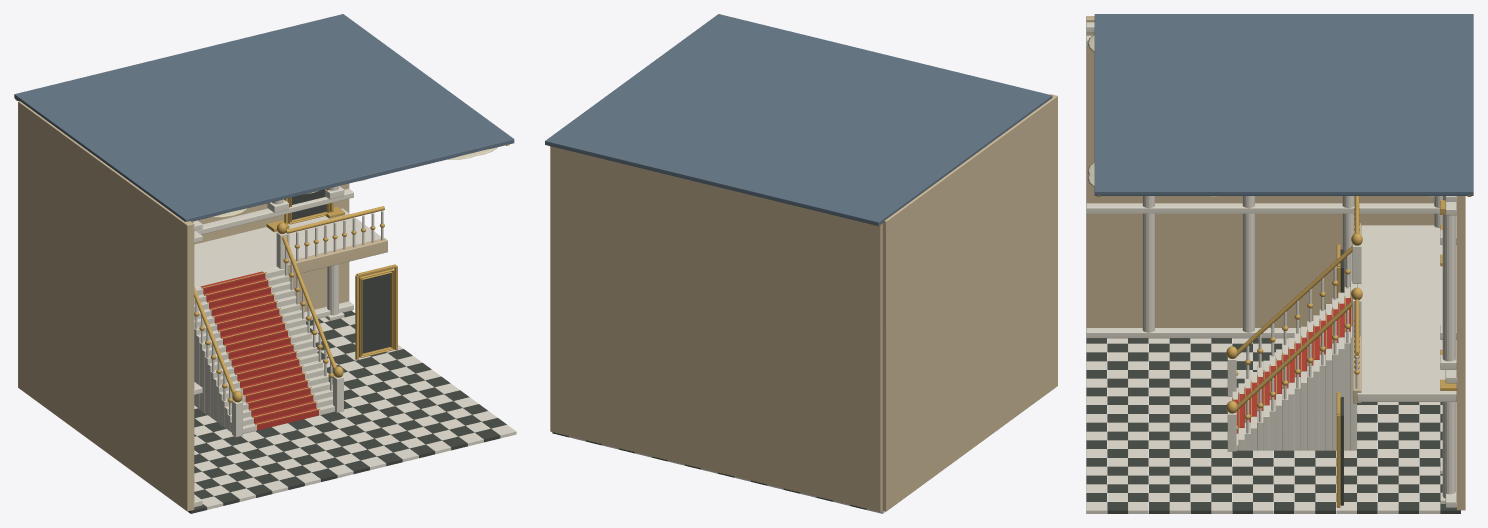
Rendered from hall.glb.
3 renders of one model, left to right at view 1: azimuth 30°, elevation 25°; view 2: azimuth 150°, elevation 25°; view 3: azimuth 270°, elevation 25°, orthographic. The views are drawn at different scales.
Visible parts, largest first — view 1: Ceiling fresco field, Hall left wall, Upper landing, Hall rear wall, Ground door backdrop.001, Landing front fascia.001, Hall cornice.001, Rising gilt handrail.001, Double height pilaster.006; view 2: Hall rear wall, Ceiling fresco field, Hall left wall; view 3: Ceiling fresco field, Hall left wall, Upper landing, Hall cornice left.001, Hall rear wall, Hall cornice left, Double height pilaster.007, Side monumental column.001, Side monumental column, Double height pilaster.006, Grand stair tread.018, Grand stair tread.015 (+14 smaller).
Part boxes in pixels (left/top/right/bottom): Ceiling fresco field: left=14, top=14, right=514, bottom=221; Hall left wall: left=18, top=101, right=194, bottom=511; Upper landing: left=194, top=208, right=380, bottom=288; Hall rear wall: left=194, top=183, right=349, bottom=311; Ground door backdrop.001: left=359, top=271, right=391, bottom=357; Landing front fascia.001: left=287, top=238, right=387, bottom=275; Hall cornice.001: left=196, top=189, right=353, bottom=234; Rising gilt handrail.001: left=282, top=235, right=336, bottom=369; Double height pilaster.006: left=327, top=264, right=338, bottom=315; Hall rear wall: left=550, top=147, right=882, bottom=511; Ceiling fresco field: left=545, top=14, right=1052, bottom=226; Hall left wall: left=882, top=94, right=1057, bottom=511; Ceiling fresco field: left=1094, top=14, right=1473, bottom=195; Hall left wall: left=1086, top=16, right=1433, bottom=327; Upper landing: left=1357, top=225, right=1456, bottom=401; Hall cornice left.001: left=1086, top=203, right=1440, bottom=213; Hall rear wall: left=1456, top=196, right=1465, bottom=510; Hall cornice left: left=1086, top=328, right=1300, bottom=338; Double height pilaster.007: left=1442, top=215, right=1455, bottom=361; Side monumental column.001: left=1242, top=196, right=1254, bottom=332; Side monumental column: left=1142, top=196, right=1154, bottom=332; Double height pilaster.006: left=1442, top=402, right=1455, bottom=498; Grand stair tread.018: left=1344, top=287, right=1350, bottom=450; Grand stair tread.015: left=1325, top=304, right=1331, bottom=450.
Size of the model in its own units: 10.16 by 8.58 by 9.3.
